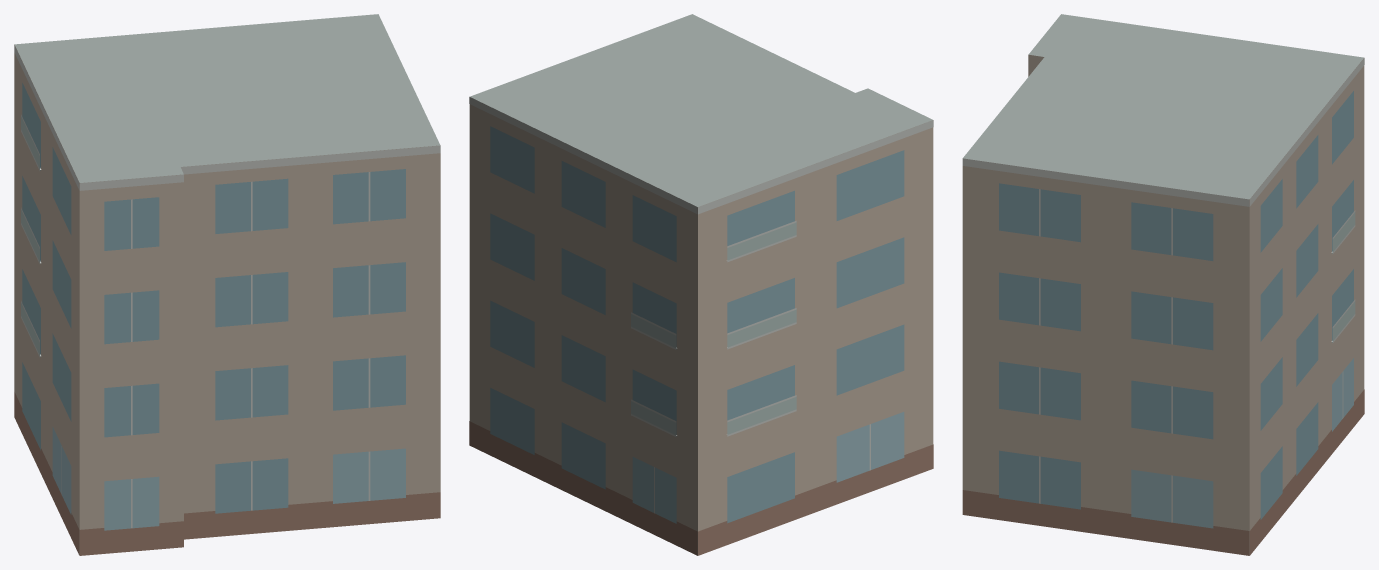
Rendered from survey-upis-32719589.glb.
3 renders of one model, left to right at view 1: azimuth 30°, elevation 25°; view 2: azimuth 150°, elevation 25°; view 3: azimuth 270°, elevation 25°, orthographic. The views are drawn at different scales.
Parts seen in each view (by area): view 1: survey-upis-32719589.tmp; view 2: survey-upis-32719589.tmp; view 3: survey-upis-32719589.tmp.
Part boxes in pixels (x1,y1,x2,y2): survey-upis-32719589.tmp: (14, 14, 440, 555); survey-upis-32719589.tmp: (469, 14, 933, 555); survey-upis-32719589.tmp: (962, 14, 1364, 555).
Bounding box in the file's own units: 13.01 × 11.65 × 11.91.
